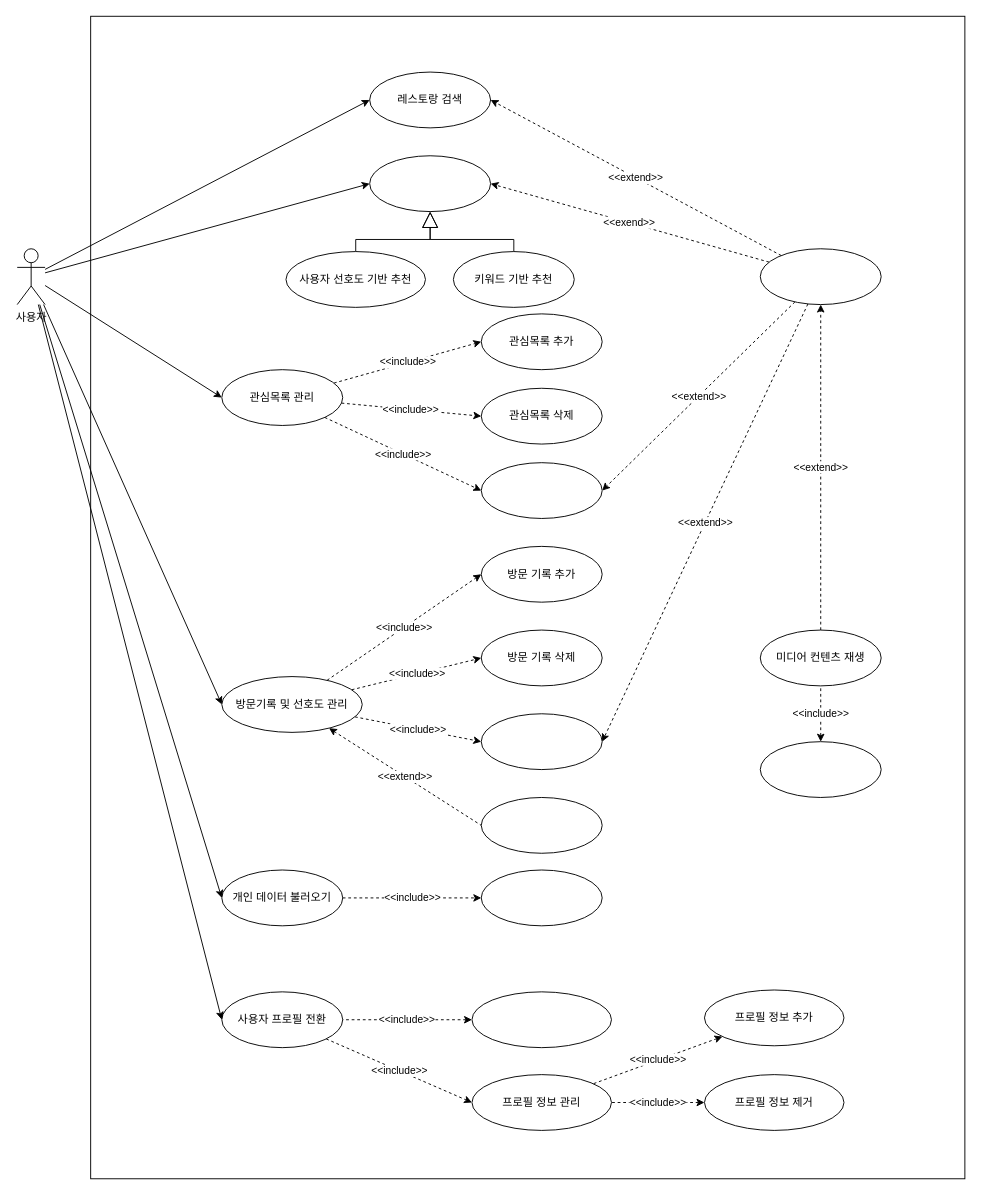
Some shapes in this 981 by 1195 pixel diagram are drawn without their labels. Each missing label, with the box of its shape:
관심목록 보기: (480, 462, 602, 518)
레스토랑 정보 확인: (759, 248, 881, 305)
레스토랑 추천: (369, 155, 491, 212)
로그인: (480, 869, 602, 926)
방문 기록 보기: (480, 713, 602, 770)
재생 기록 저장: (759, 741, 881, 797)
좋아요 / 싫어요: (480, 797, 602, 853)
프로필 별 정보 불러오기: (471, 991, 611, 1048)
